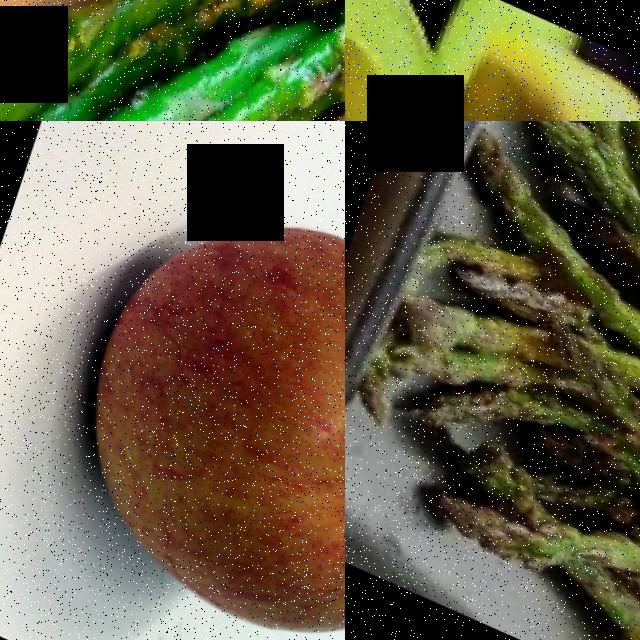apple: (32, 131, 345, 640)
asparagus: (0, 0, 345, 121), (518, 372, 640, 528), (545, 482, 640, 640), (557, 258, 640, 430)
avocado: (345, 0, 640, 121), (371, 0, 640, 121)
